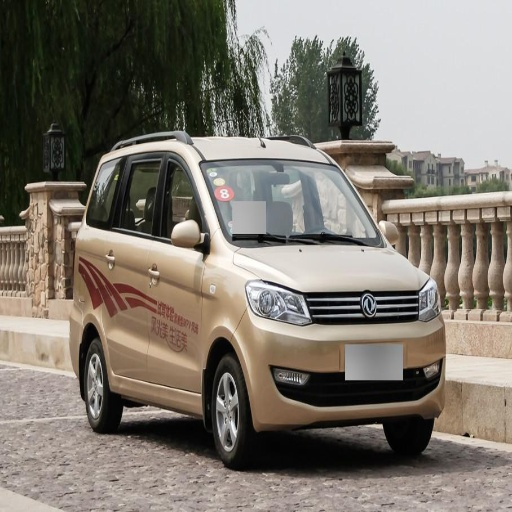front_bumper: (239, 290, 447, 428)
front_right_door: (148, 151, 209, 392)
front_right_light: (246, 279, 311, 324)
hood: (236, 247, 426, 294)
